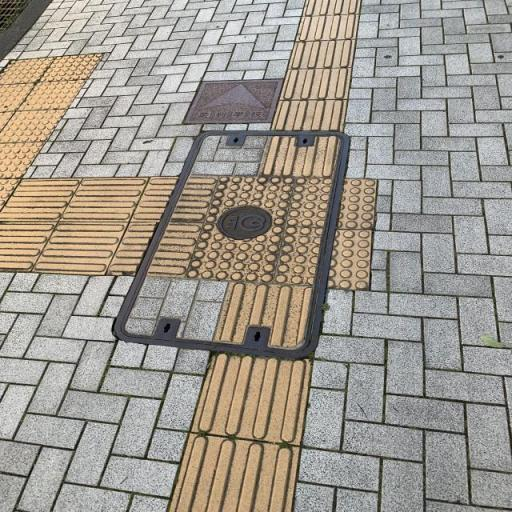line: (190, 351, 312, 444), (30, 220, 129, 275), (59, 178, 147, 223), (0, 178, 82, 222), (278, 68, 351, 100), (287, 39, 356, 69)
